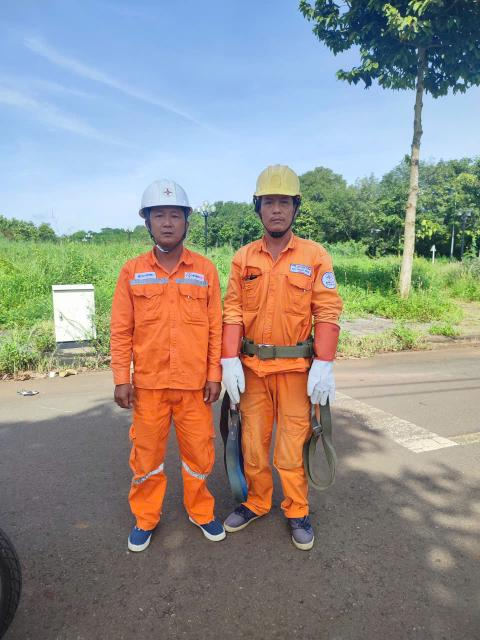gloves: (211, 352, 257, 401), (305, 351, 340, 412)
harness: (234, 328, 321, 374)
helmet: (124, 176, 203, 216), (253, 150, 302, 202)
shoes: (282, 501, 330, 554), (183, 502, 230, 546), (223, 491, 262, 537), (121, 517, 161, 553)
